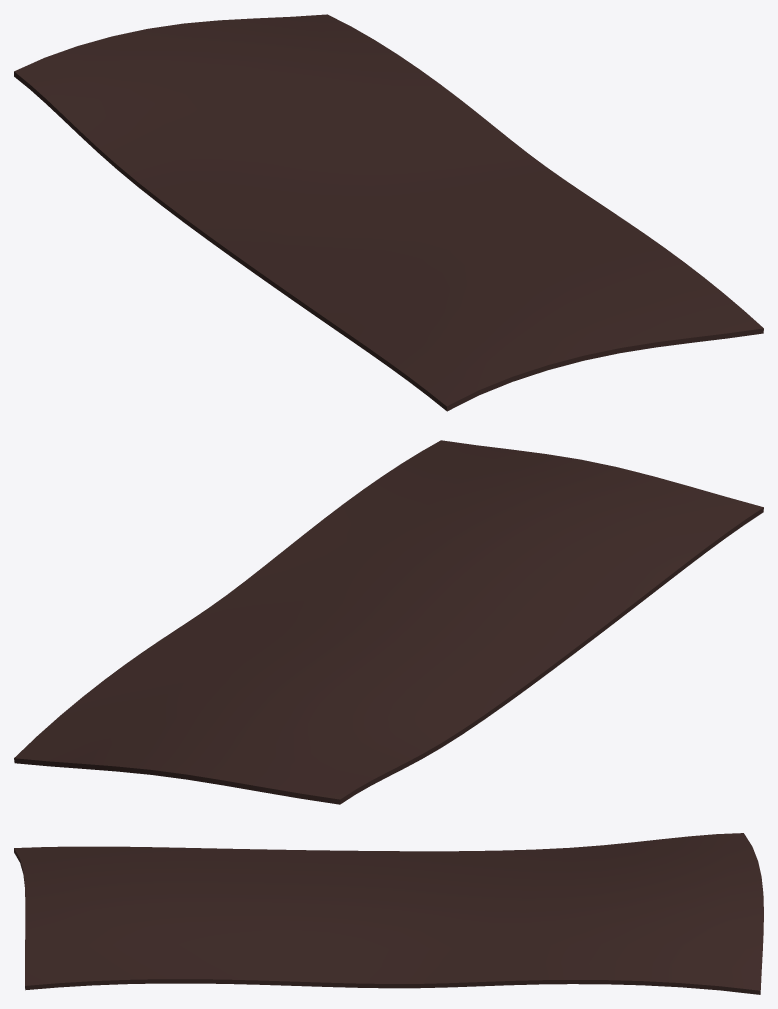
Rendered from Tapis_7.fbx.
The picture shows the model from 3 angles, top to bottom: view 1: azimuth 30°, elevation 25°; view 2: azimuth 150°, elevation 25°; view 3: azimuth 270°, elevation 25°; orthographic projection. The views are drawn at different scales.
Parts seen in each view (by area): view 1: nurbsToPoly4; view 2: nurbsToPoly4; view 3: nurbsToPoly4.
Boxes of the visible parts, box(x1,y1,x2,y2) form: nurbsToPoly4: box(14, 14, 763, 411); nurbsToPoly4: box(14, 440, 763, 804); nurbsToPoly4: box(14, 833, 763, 994).
Bounding box in the file's own units: 72.41 × 7.72 × 172.
